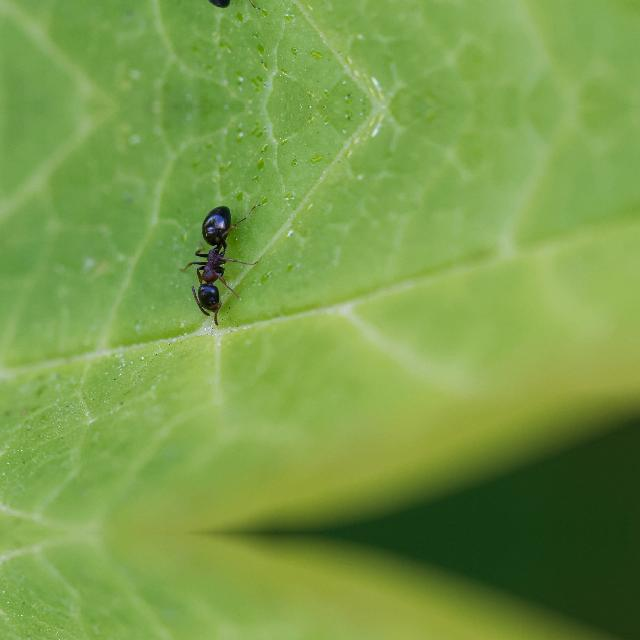Dolichoderus: (169, 192, 263, 322)
